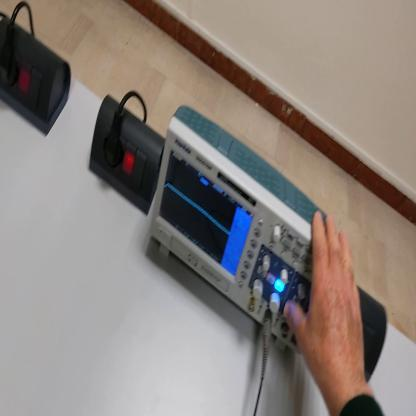hand: (285, 209, 369, 394)
oscilloscope: (148, 108, 326, 356)
socket: (88, 93, 165, 217), (1, 15, 75, 140)
